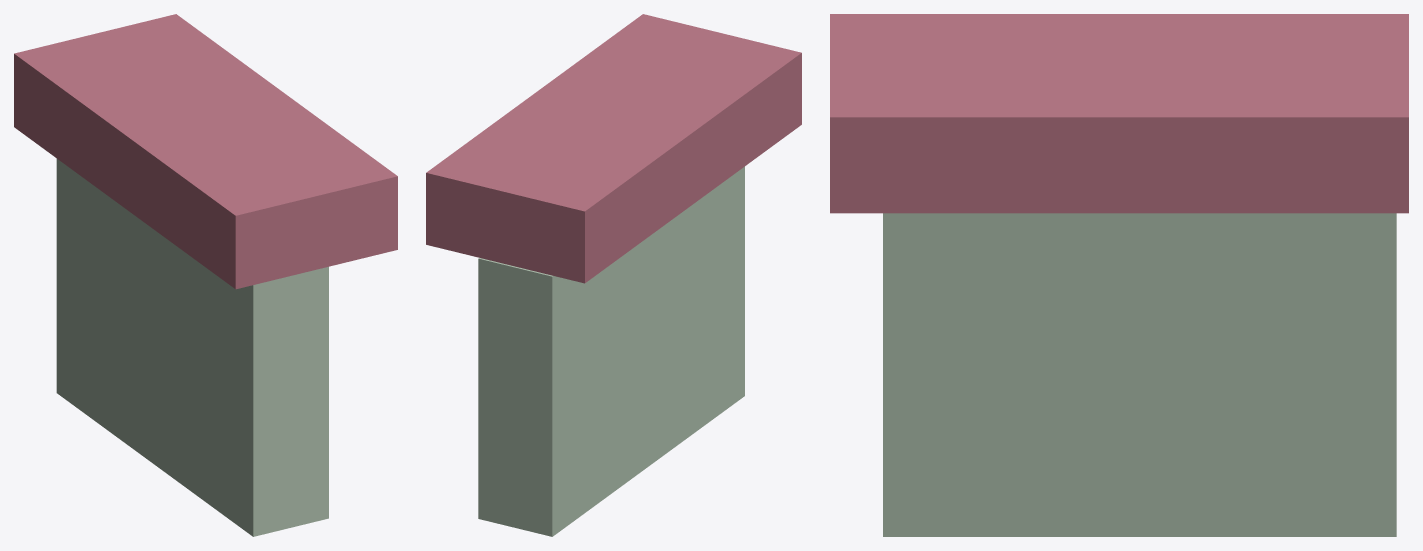
The picture shows the model from 3 angles, left to right: view 1: azimuth 30°, elevation 25°; view 2: azimuth 150°, elevation 25°; view 3: azimuth 270°, elevation 25°; orthographic projection. The views are drawn at different scales.
Parts seen in each view (by area): view 1: world; view 2: world; view 3: world.
Part boxes in pixels (bbox=[...]): world: bbox=[14, 14, 397, 536]; world: bbox=[426, 14, 801, 536]; world: bbox=[830, 14, 1408, 536].
Size of the model in its own units: 3 by 6.1 by 7.1.
